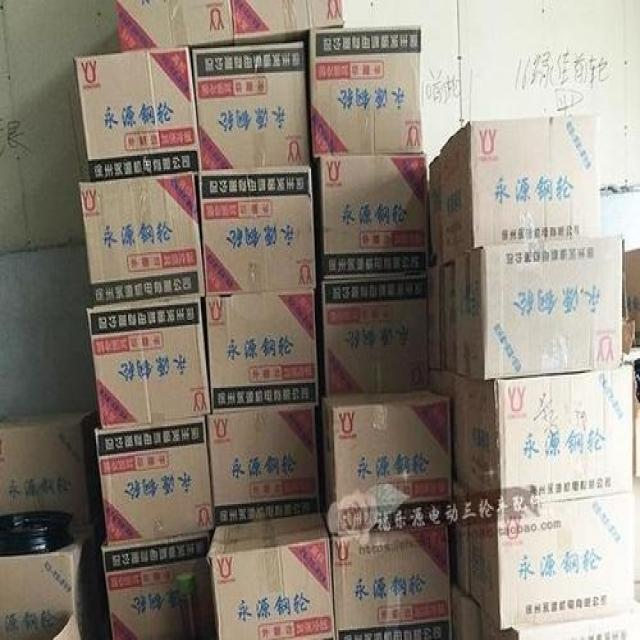box: (448, 364, 632, 507), (454, 233, 623, 382), (0, 409, 110, 637), (440, 114, 602, 262), (468, 486, 632, 630), (319, 386, 448, 534), (79, 170, 206, 307), (207, 506, 338, 638), (85, 296, 214, 427), (74, 50, 201, 182), (94, 415, 215, 544), (197, 165, 316, 296), (304, 28, 422, 154), (194, 42, 310, 167), (328, 522, 450, 638), (316, 152, 427, 278), (318, 274, 430, 396), (206, 407, 319, 527), (203, 294, 315, 412), (104, 529, 217, 637), (0, 527, 100, 638), (116, 0, 233, 53), (480, 604, 639, 637), (231, 1, 346, 44), (449, 477, 471, 592), (440, 258, 457, 369), (425, 157, 441, 269), (451, 575, 480, 636), (426, 261, 442, 370), (623, 249, 639, 348), (431, 366, 455, 400)
